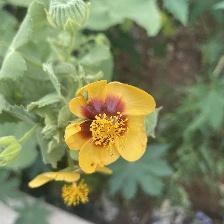indian mallow: (64, 80, 158, 177)
